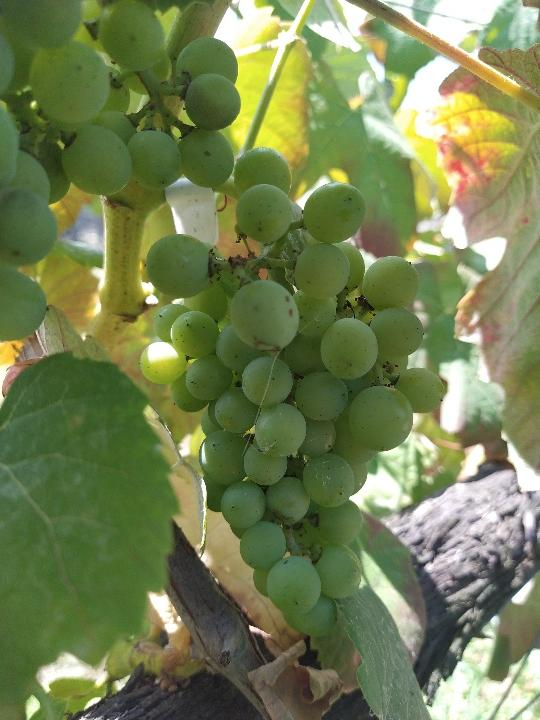grape: (142, 146, 448, 640)
